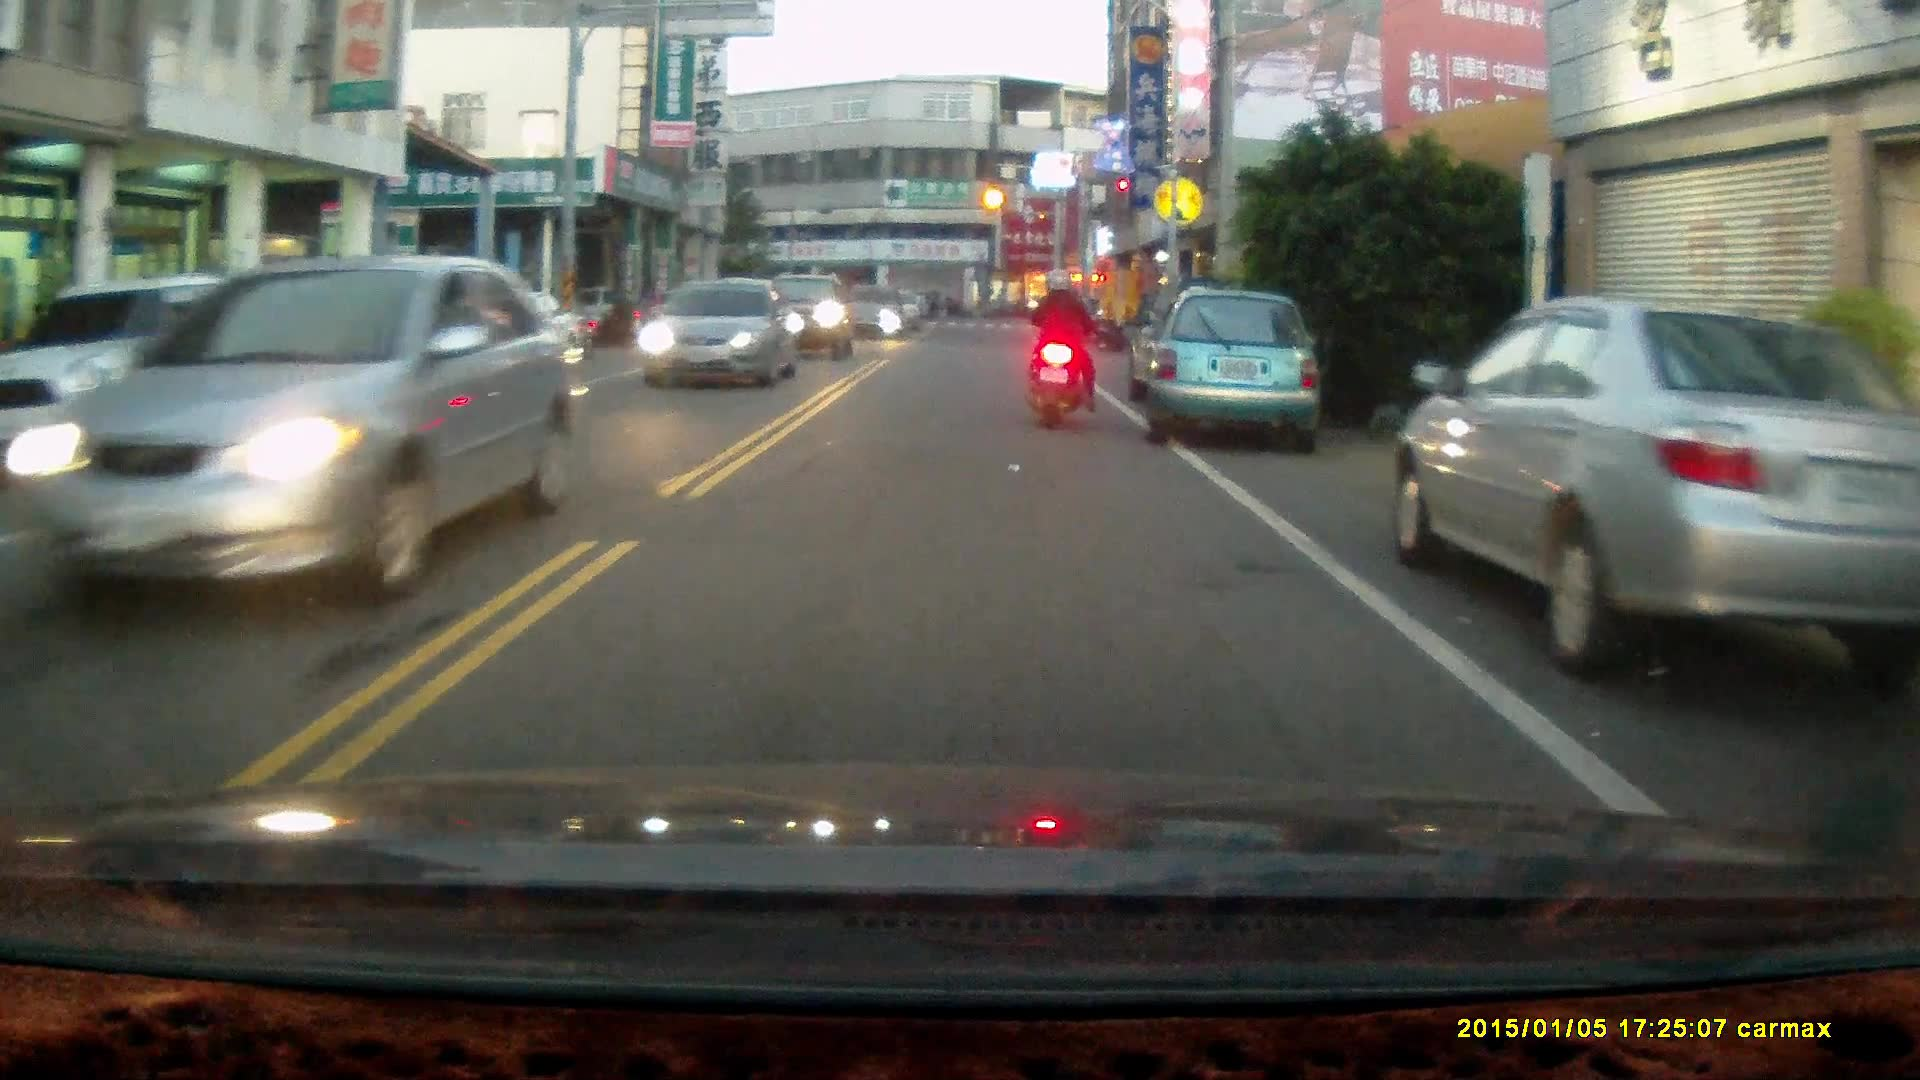rider: (1027, 263, 1106, 427)
vehicle: (1393, 294, 1920, 673), (36, 253, 561, 603), (1, 272, 304, 480), (1143, 290, 1322, 442), (641, 277, 797, 390), (735, 270, 860, 363)
